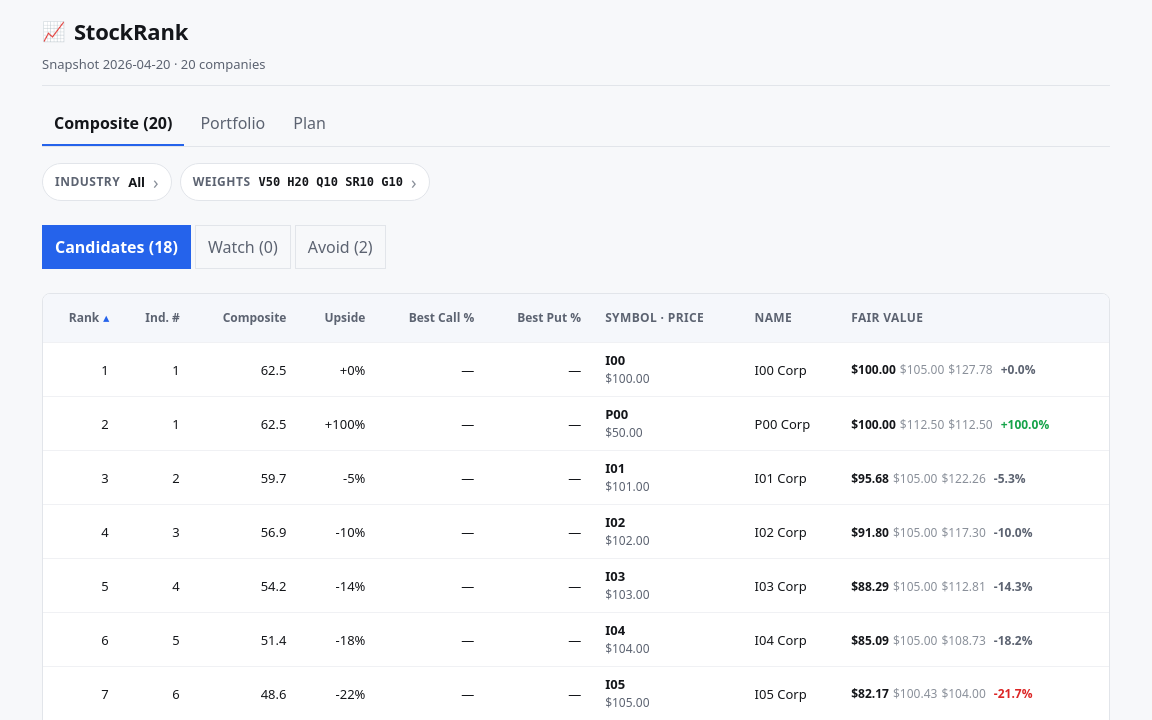
it: <App /> — navigation › switches to the Capital Plan screen when its tab is clicked
The width and height of the screenshot is (1152, 720).
Step 1. Click the button "Plan" → (310, 124), box [281,102,338,146]
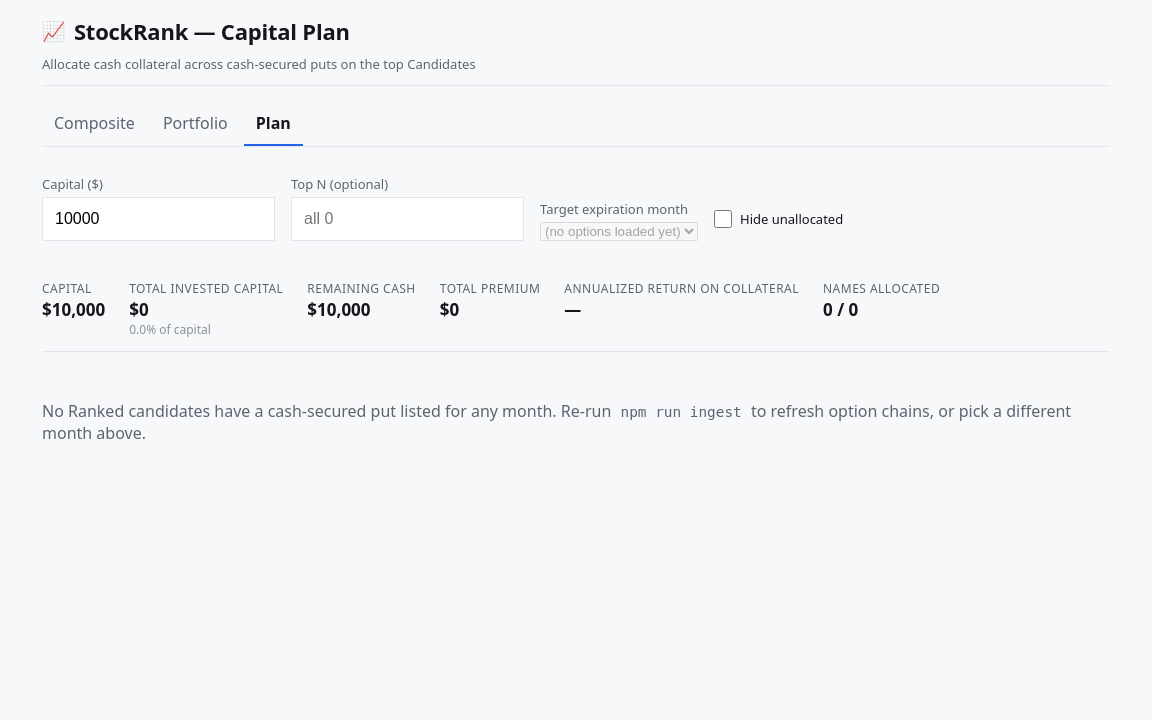
expect the heading "StockRank — Capital Plan" is shown: met, box [74,16,350,46]
